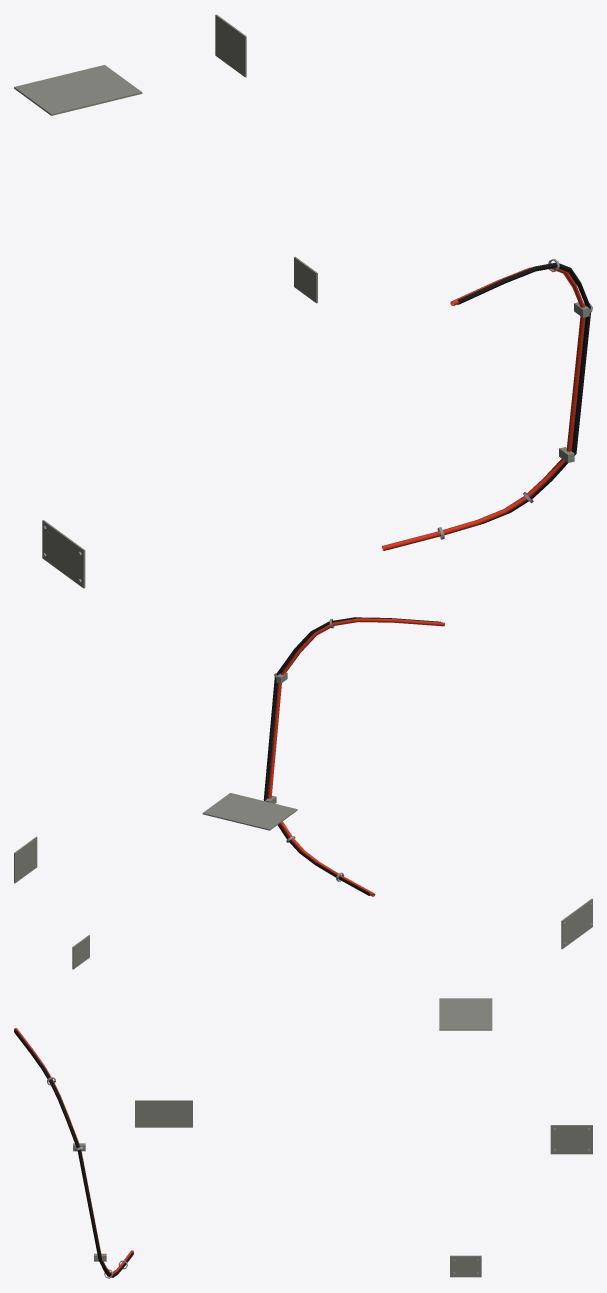
File: refuge100_harness.obj
3 renders of one model, top to bottom at view 1: azimuth 30°, elevation 25°; view 2: azimuth 150°, elevation 25°; view 3: azimuth 270°, elevation 25°, orthographic. The views are drawn at different scales.
Visible parts, largest first — view 1: refuge100_harness; view 2: refuge100_harness; view 3: refuge100_harness.
Boxes of the visible parts, <box> form: refuge100_harness: <box>14,14,592,588</box>; refuge100_harness: <box>14,617,592,969</box>; refuge100_harness: <box>14,998,592,1278</box>.
Bounding box in the file's own units: 3.63 × 2.3 × 5.47.
